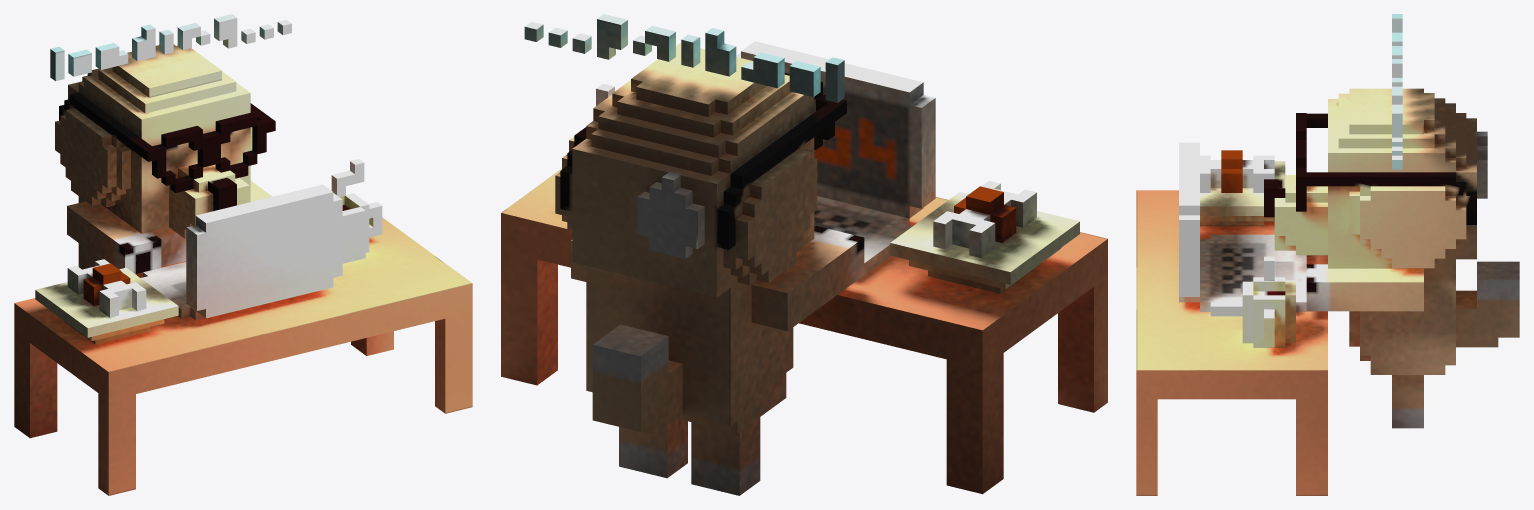
Rendered from dog-retriever.glb.
3 renders of one model, left to right at view 1: azimuth 30°, elevation 25°; view 2: azimuth 150°, elevation 25°; view 3: azimuth 270°, elevation 25°, orthographic. The views are drawn at different scales.
Parts seen in each view (by area): view 1: dog; view 2: dog; view 3: dog.
Part boxes in pixels (<box>): dog: <box>14,14,472,495</box>; dog: <box>501,14,1107,495</box>; dog: <box>1136,14,1519,495</box>.
Size of what is drawn, in the model's own units: 4 by 3.5 by 3.6.
Materials: 1 (1 with a texture image).
